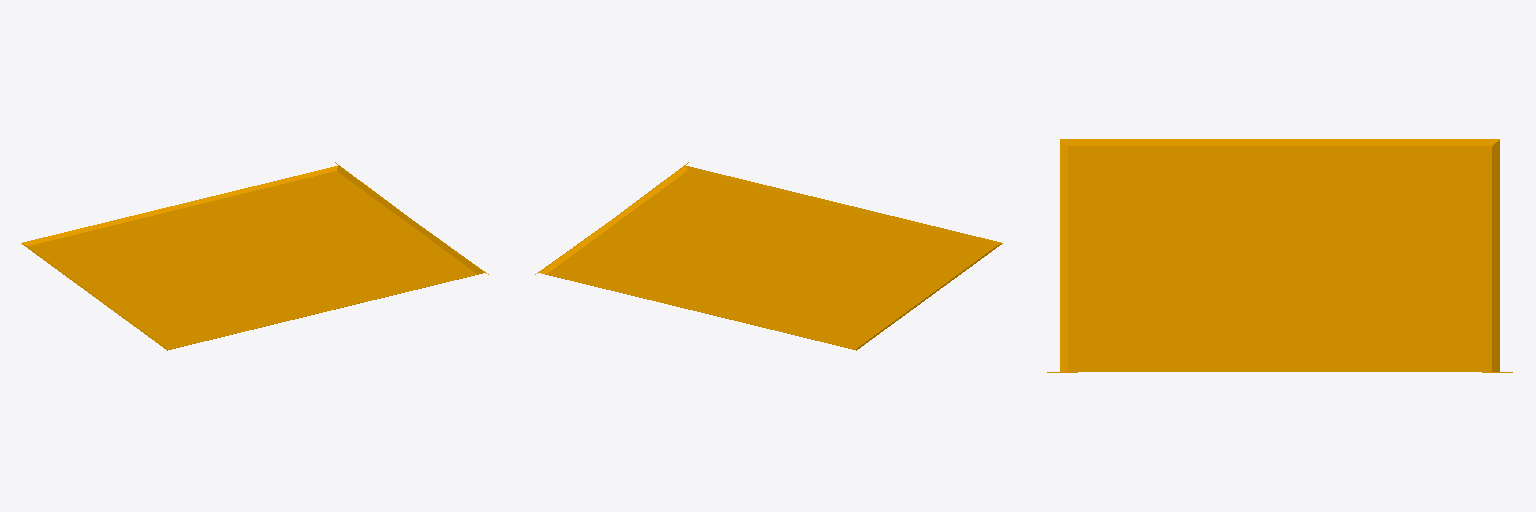
The robot description file, URDF, robot "none":
<robot name="none">
       <link name="none">
           <visual>
               <origin xyz="0 0 0.5" />
               <geometry>
                   <mesh filename="computer.obj" /> 
                   <!-- 这里改成对应的obj名称 -->
               </geometry>
           </visual>
          <collision>
<origin rpy="1.57 0 0" xyz="0 0 0.5" />
              <geometry>
                  <box size="2.0 1 0.6" />
                  <!-- 这里的size，可以多试几次改成差不多体积的长宽高 -->
              </geometry>
          </collision>

          <inertial>
            <mass value="20.0" />
            <inertia ixx="0.05" ixy="0.0" ixz="0.0" iyy="0.05" iyz="0.0" izz="0.05"/>
          </inertial>
      </link>
  </robot>

--- Render facts (derived) ---
The picture shows the robot from 3 angles, left to right: view 1: azimuth 30°, elevation 25°; view 2: azimuth 150°, elevation 25°; view 3: azimuth 270°, elevation 25°; orthographic projection.
Robot: none — 1 links, 0 joints (none); root link none; default pose: all joints at 0.
Visible links, largest first — view 1: none; view 2: none; view 3: none.
Boxes of the visible links, x1,y1,x2,y2 form: none: (21, 162, 488, 350); none: (535, 162, 1002, 350); none: (1047, 139, 1512, 372).
Size in the robot's own frame: 1.44 by 1.23 by 0.0102 metres.
Meshes: 1 distinct files referenced, 1 mesh visuals loaded (1 OBJ).
